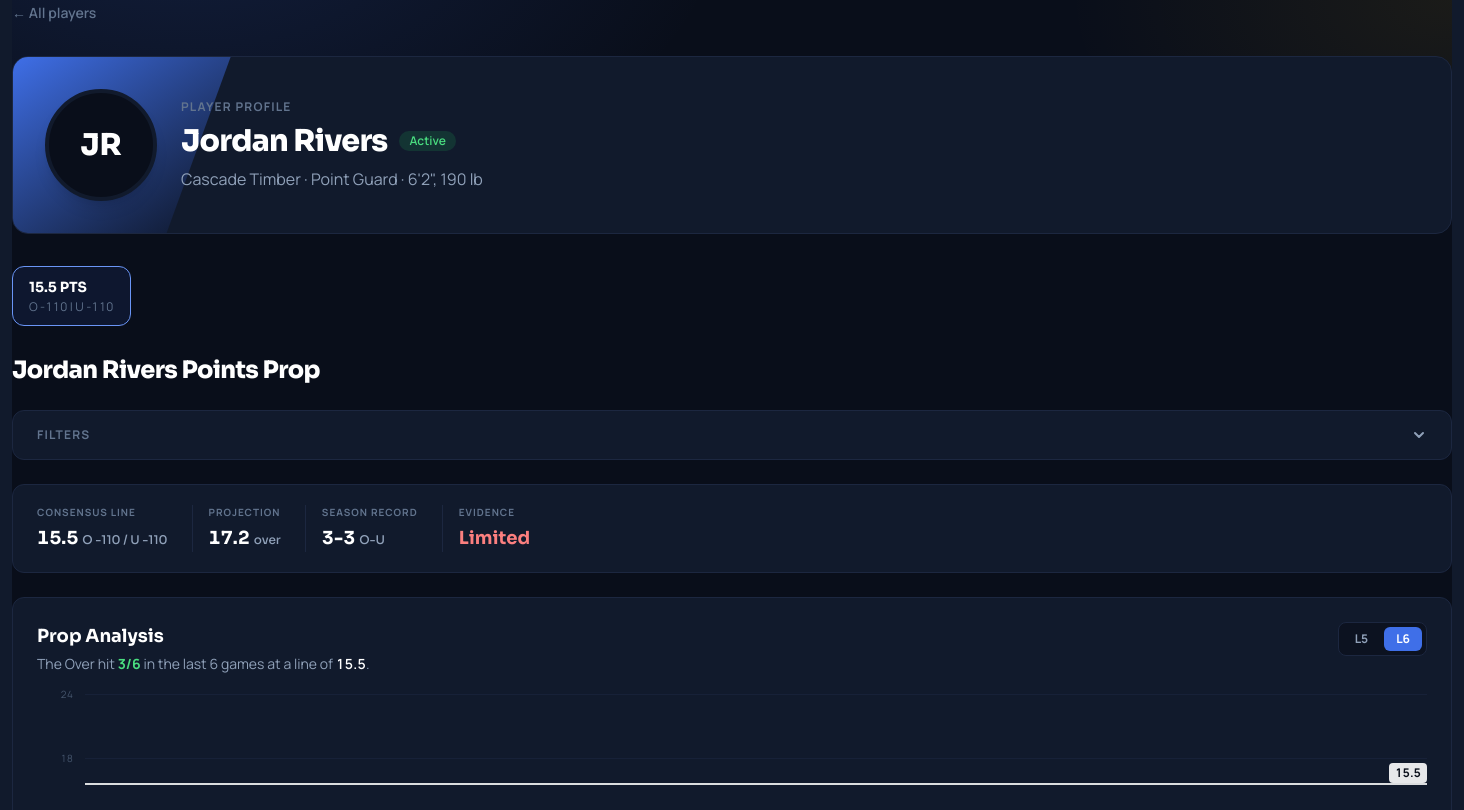
Scenario: PlayerDetailPage › filters the prop analysis to home or away games
The width and height of the screenshot is (1464, 810).
Expected: the text "The Over hit 3/6 in the last 6 games at a line of 15.5." is shown, [37, 654, 369, 674]
Note: Filters start collapsed — open the panel before using its controls.
Click the button "Filters". click: (64, 434)
box: [13, 411, 1451, 459]
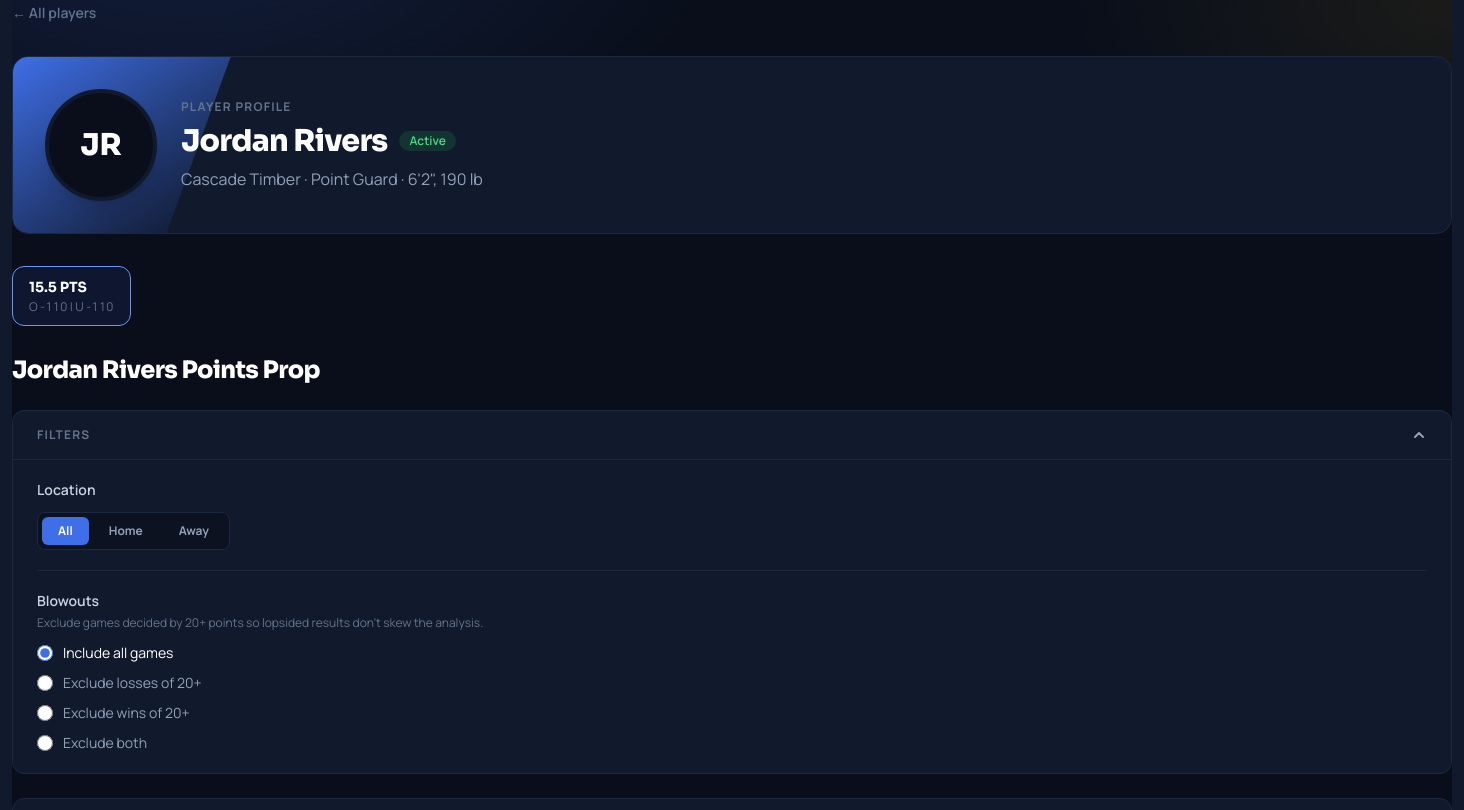
Note: Home only → 3 games, all Overs.
Click the button "Home". click: (126, 531)
box: [93, 517, 159, 545]
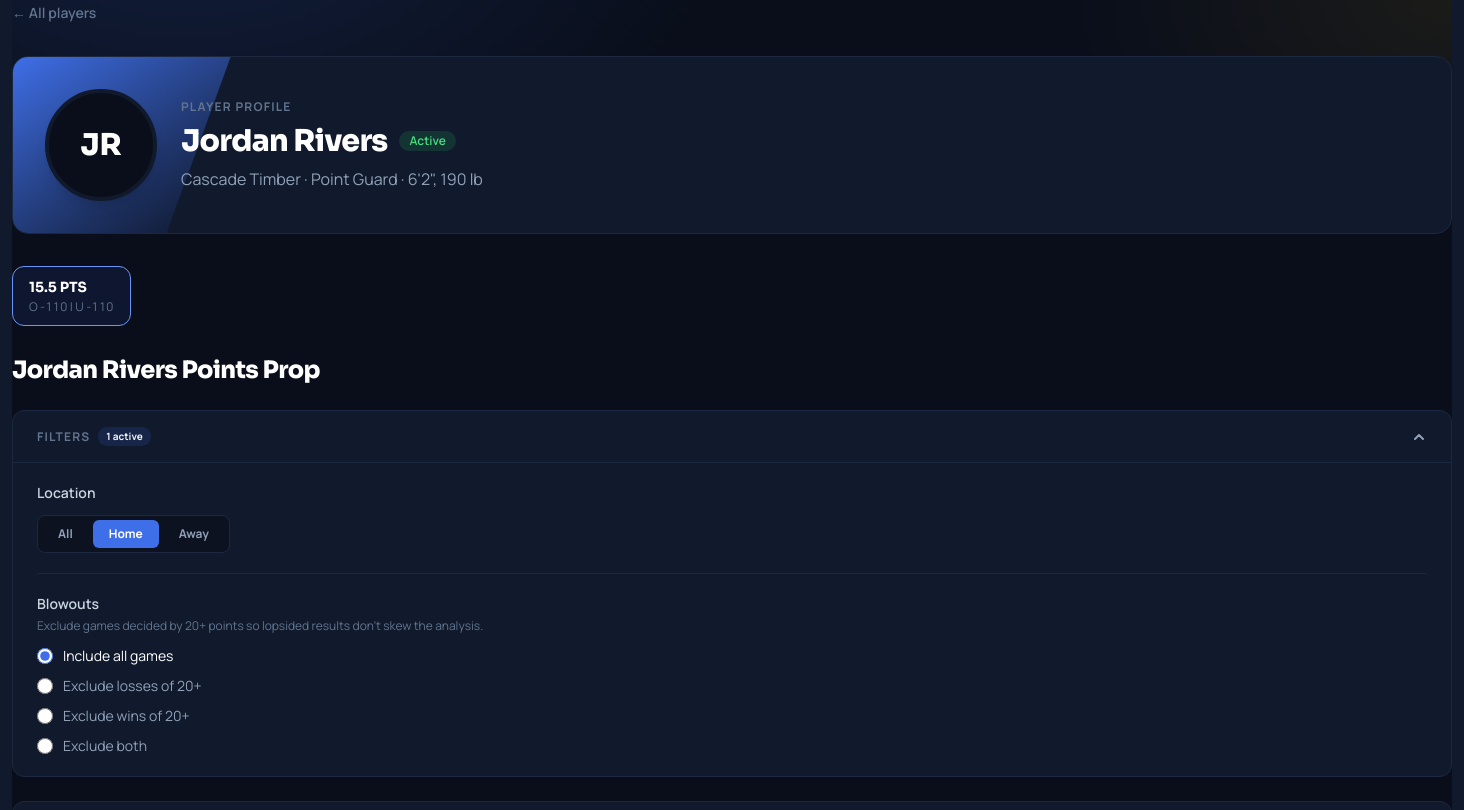
Note: Away only → 3 games, zero Overs.
Click the button "Away". click: (194, 534)
box: [163, 520, 225, 548]
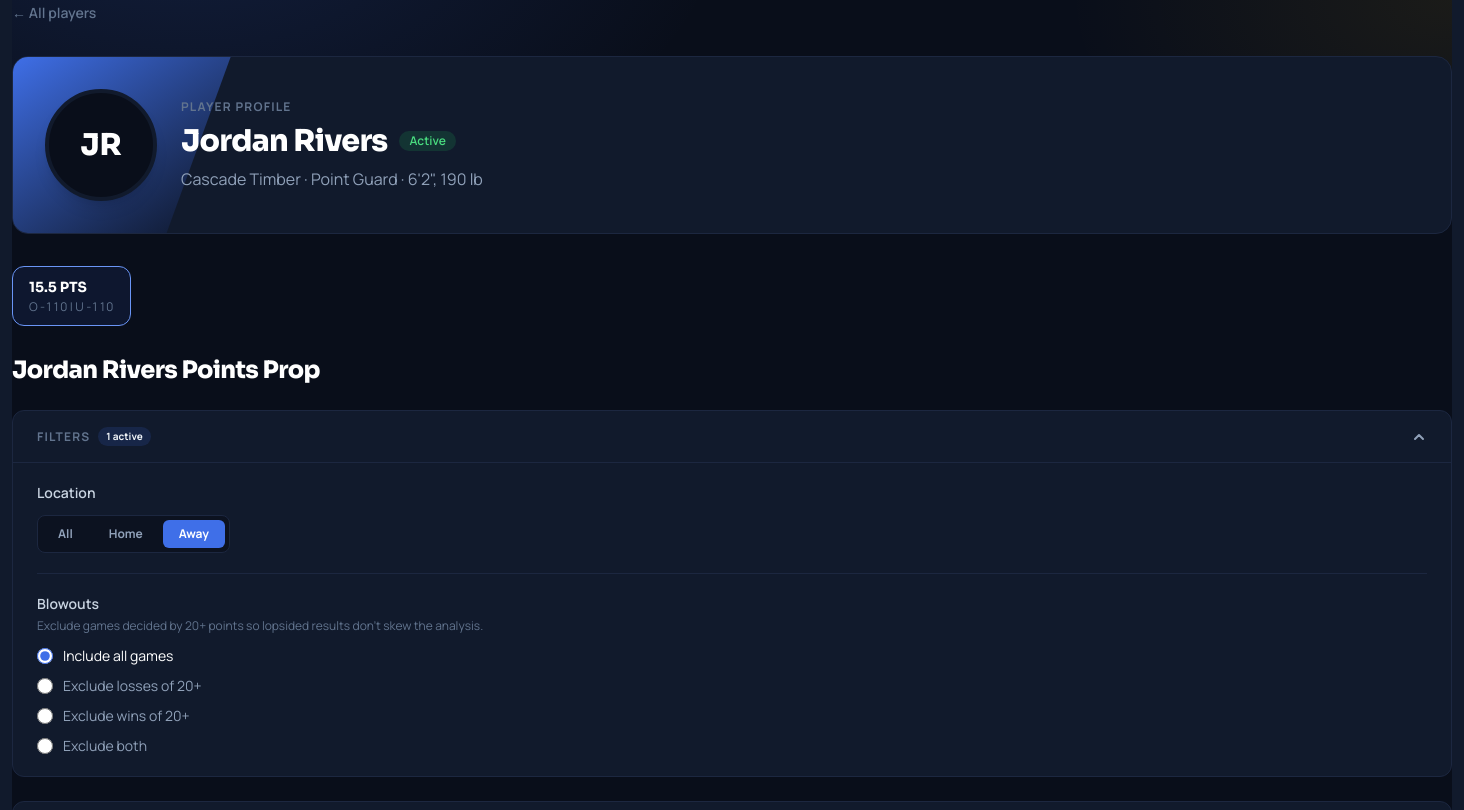
Note: Back to All → the full 6-game window returns.
Click the button "All". click: (65, 534)
box: [42, 520, 89, 548]
(page scrolled)
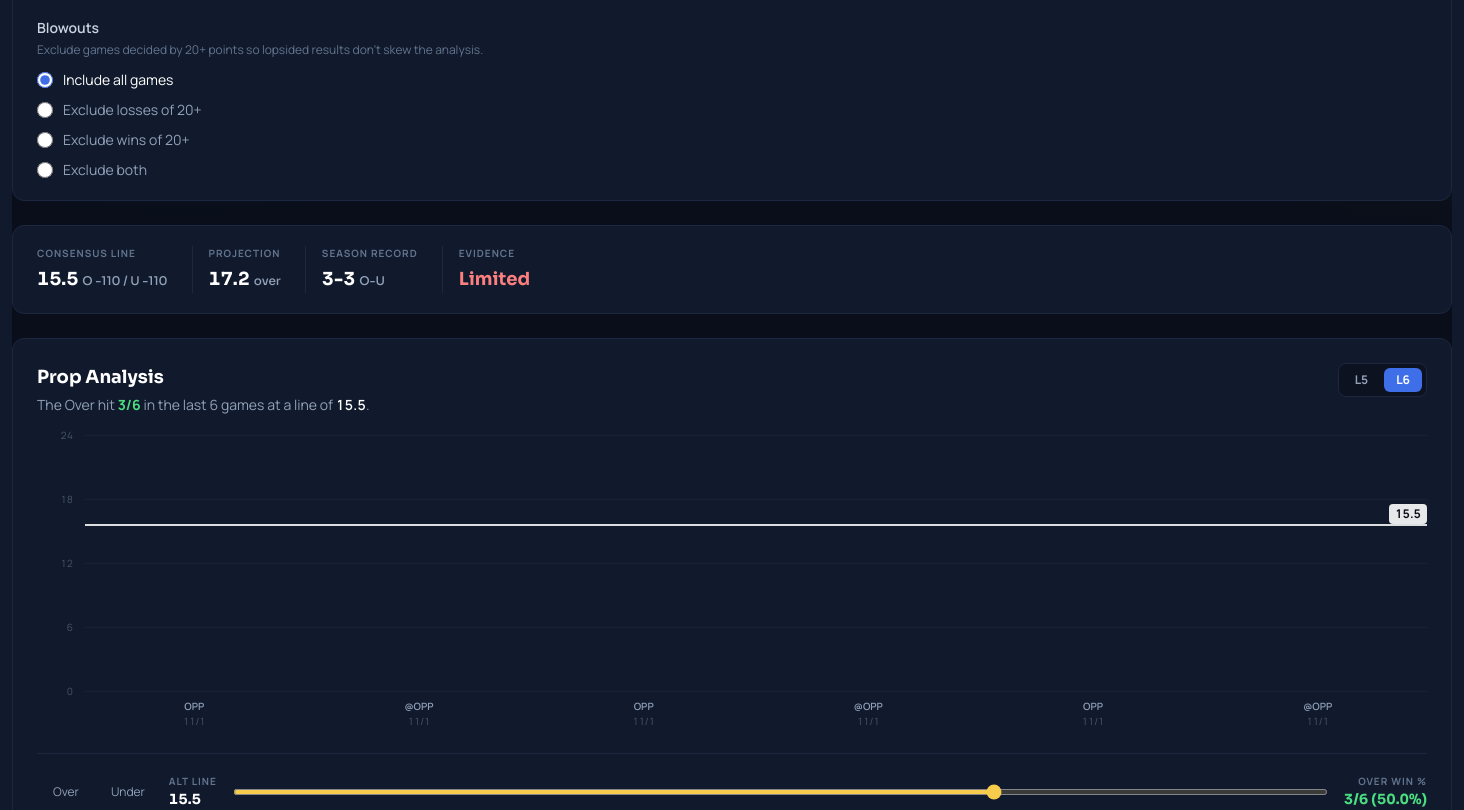
Expected: the text "The Over hit 3/6 in the last 6 games at a line of 15.5." is shown, [37, 395, 369, 415]
